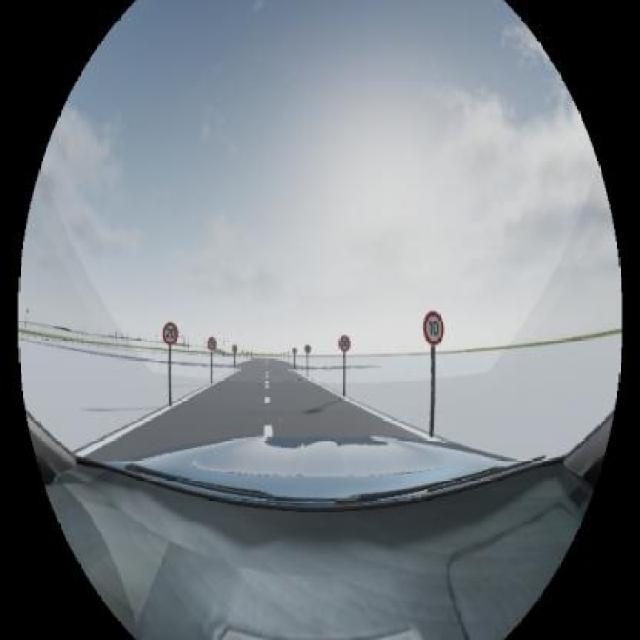forb_speed_over_10: (423, 311, 445, 346)
forb_speed_over_20: (162, 321, 178, 345), (338, 335, 351, 352)
